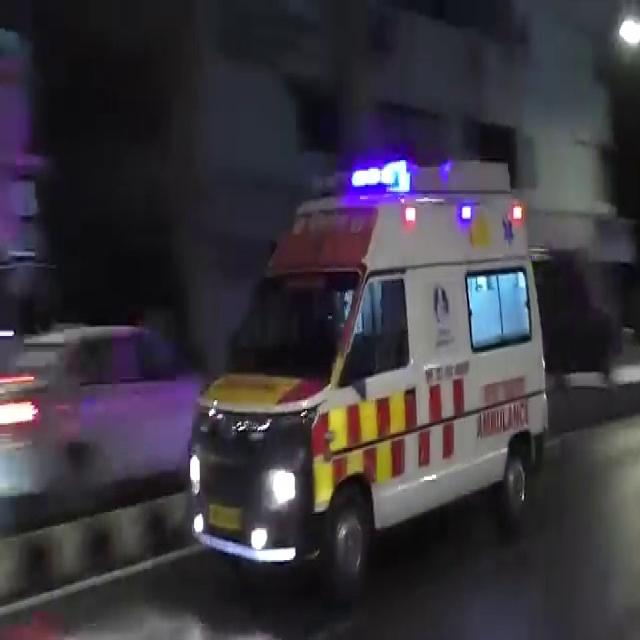ambulance: (206, 194, 547, 555)
